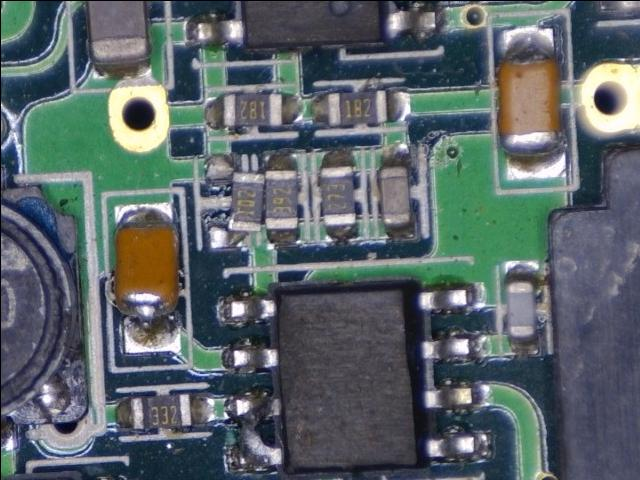Incorrect_installation: (114, 202, 180, 353), (206, 155, 265, 249)
Short_circuit: (224, 399, 282, 474)
